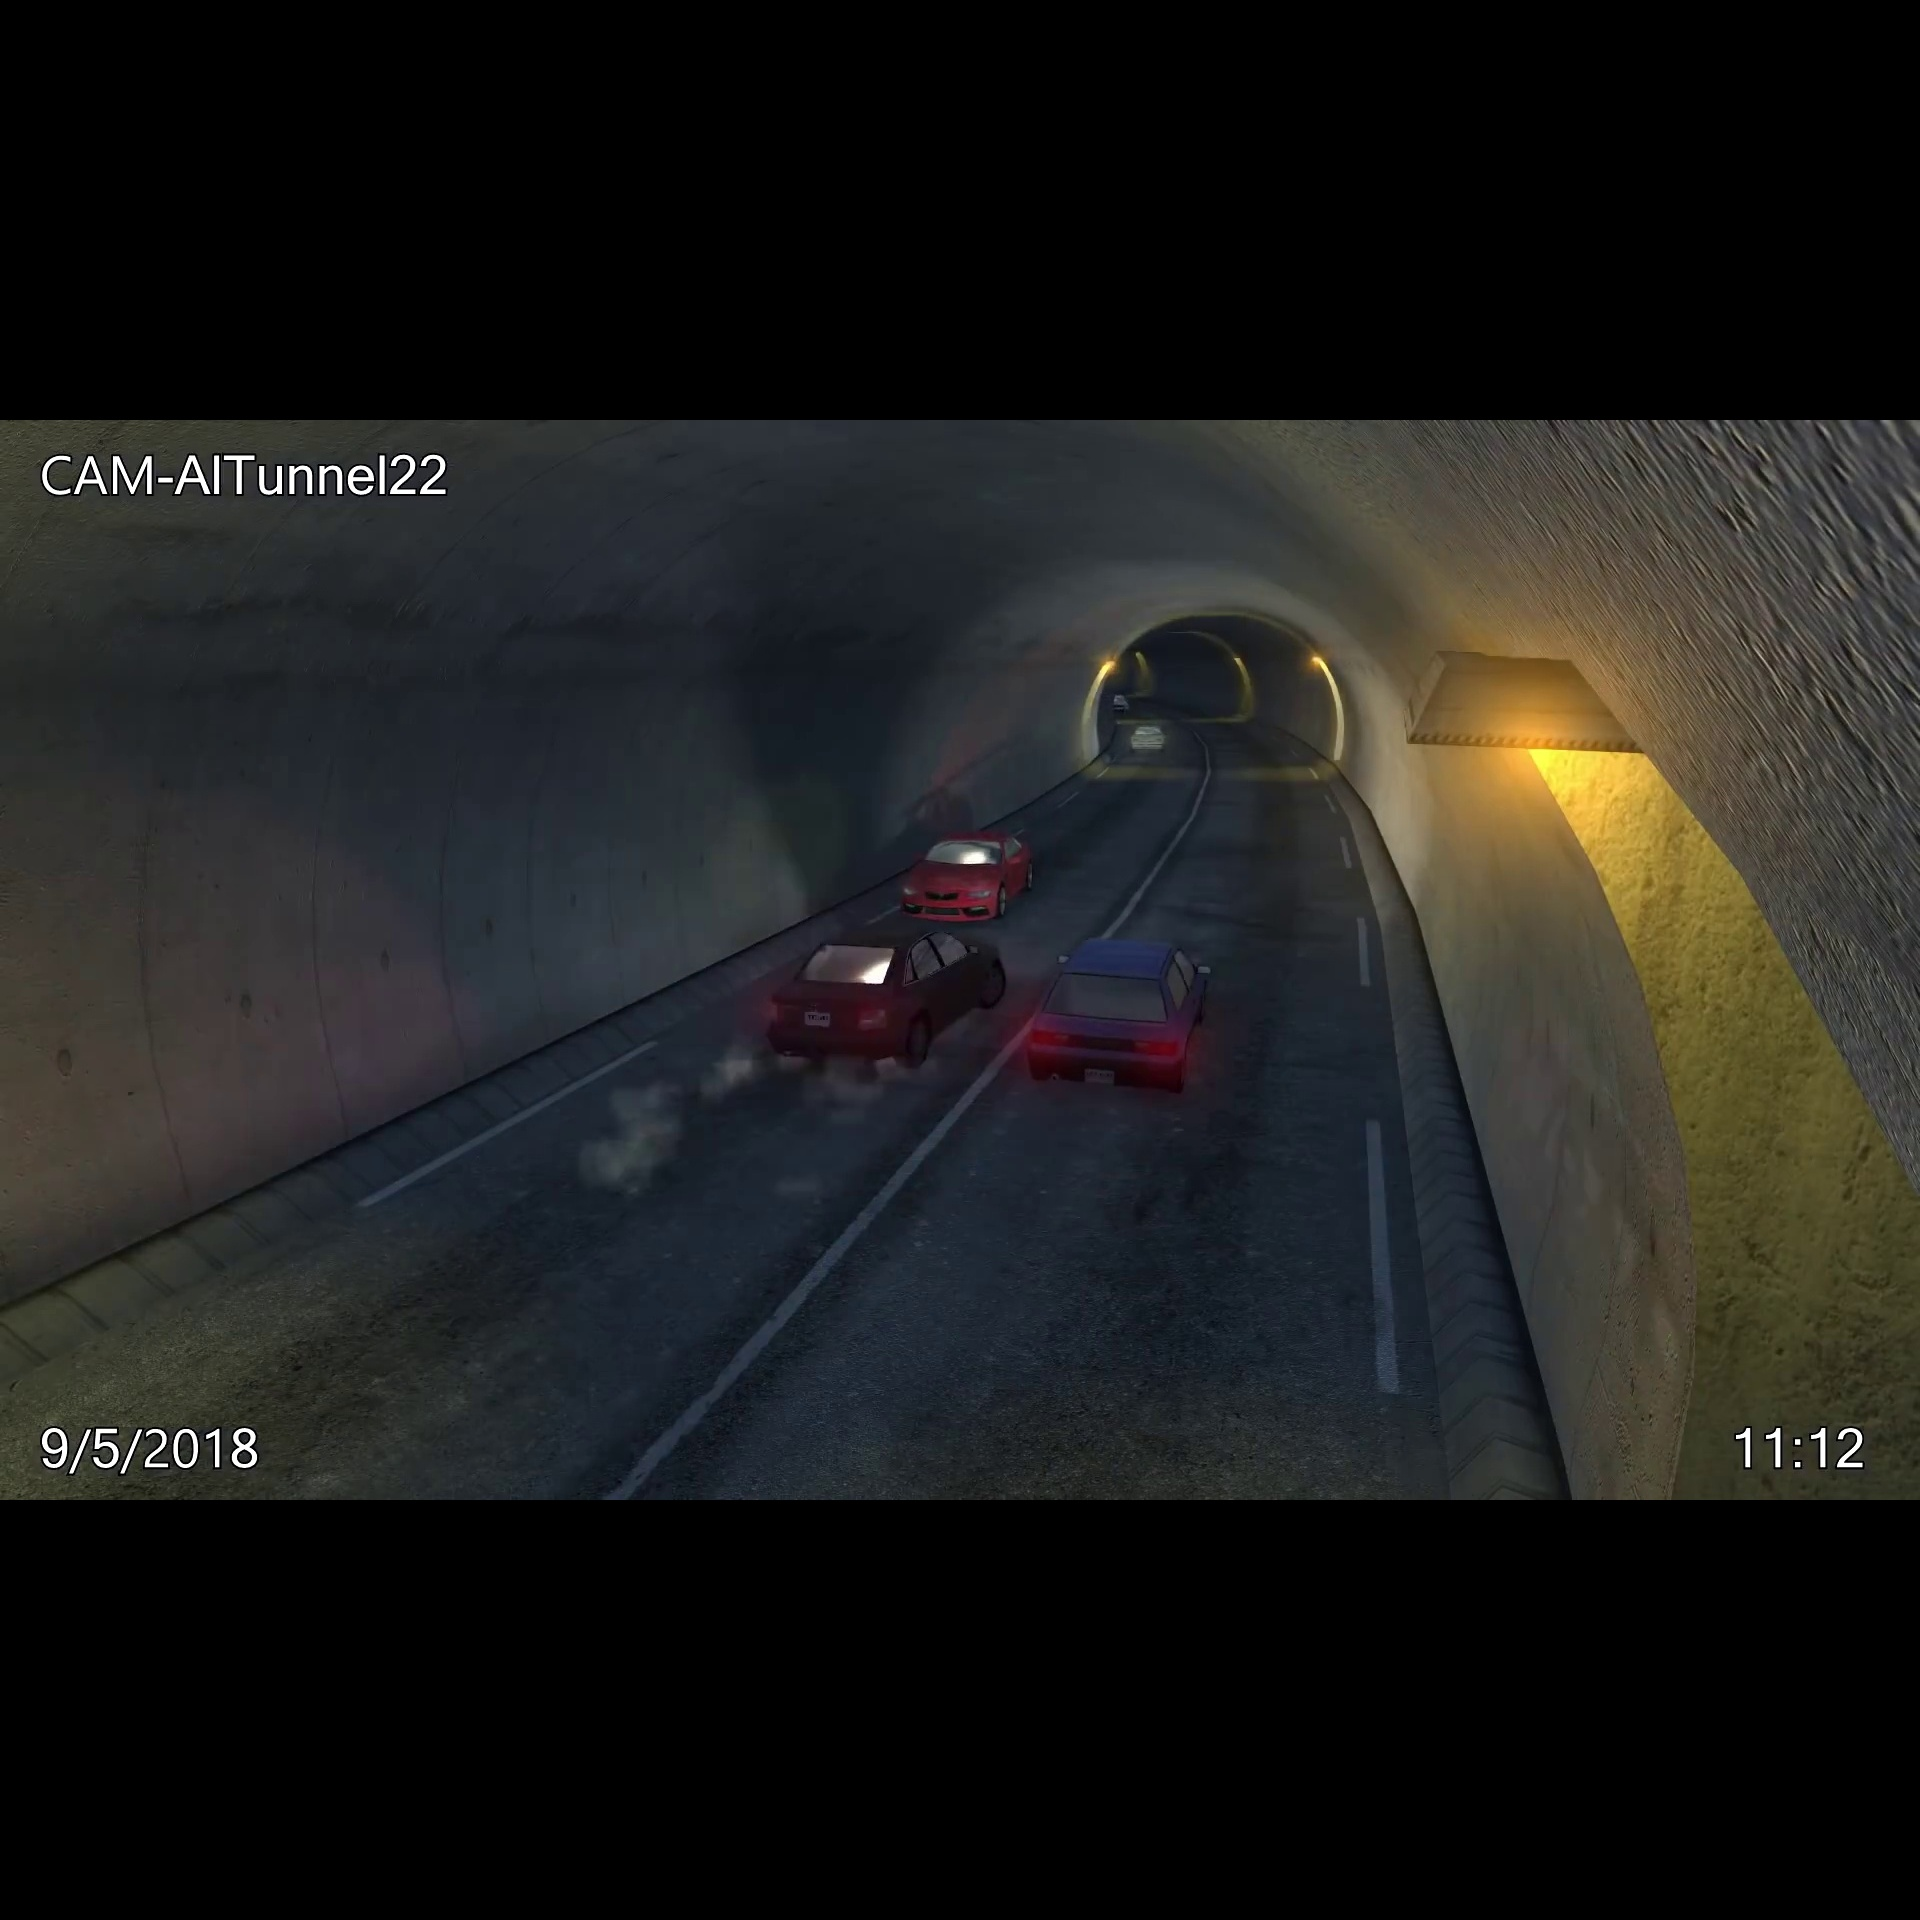vehicle: (761, 918, 1015, 1074), (1016, 927, 1222, 1102), (888, 818, 1044, 930), (1124, 723, 1176, 761), (1111, 695, 1131, 716)
